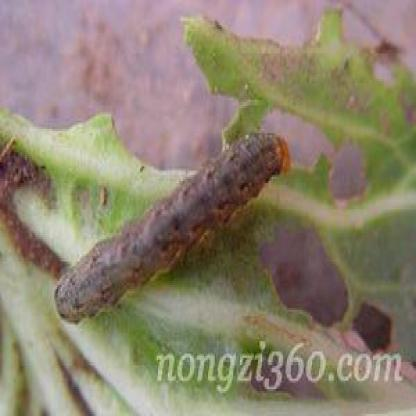armyworm: (42, 98, 314, 356)
